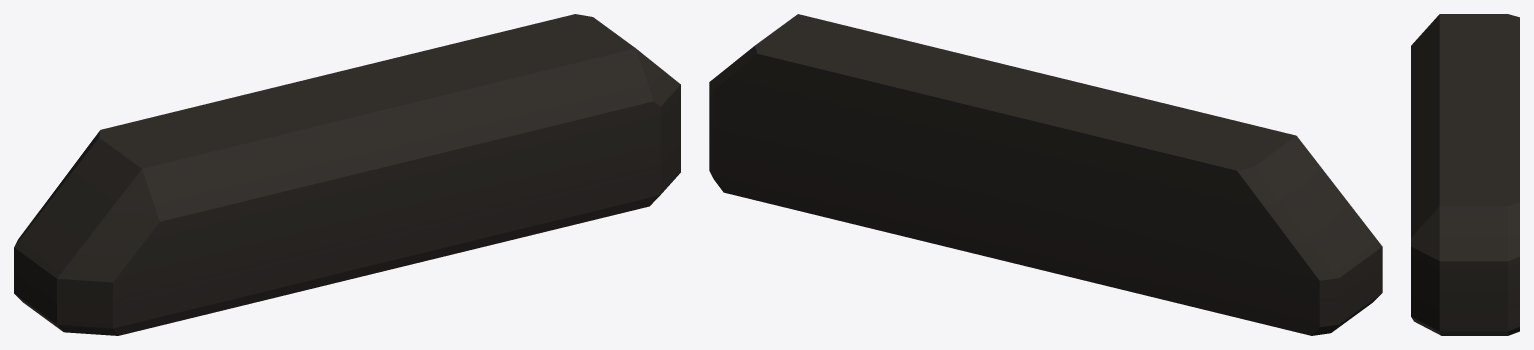
The model's file is AR1_HandleRight.fbx.
3 views of the same model, side by side, from view 1: azimuth 30°, elevation 25°; view 2: azimuth 150°, elevation 25°; view 3: azimuth 270°, elevation 25° (orthographic). The views are drawn at different scales.
Visible parts, largest first — view 1: AR1_HandleRight; view 2: AR1_HandleRight; view 3: AR1_HandleRight.
Boxes of the visible parts, x1,y1,x2,y2 form: AR1_HandleRight: (14,14,680,335); AR1_HandleRight: (709,14,1382,335); AR1_HandleRight: (1411,14,1519,335).
Size of the model in its own units: 21.17 by 4.73 by 4.01.
